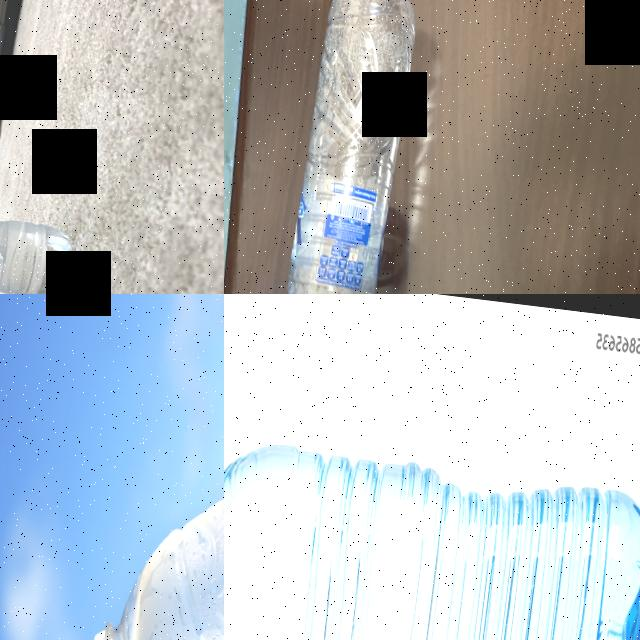bottle: (224, 416, 640, 640), (264, 0, 433, 294), (76, 319, 224, 640)
